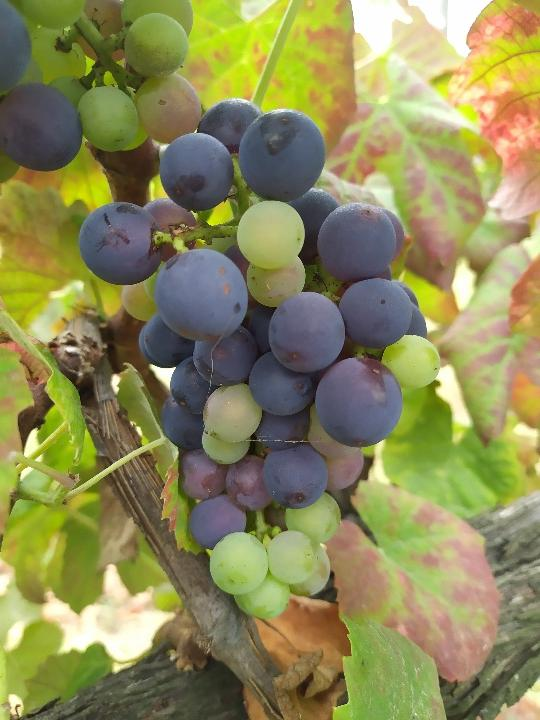grape: (74, 97, 443, 622)
